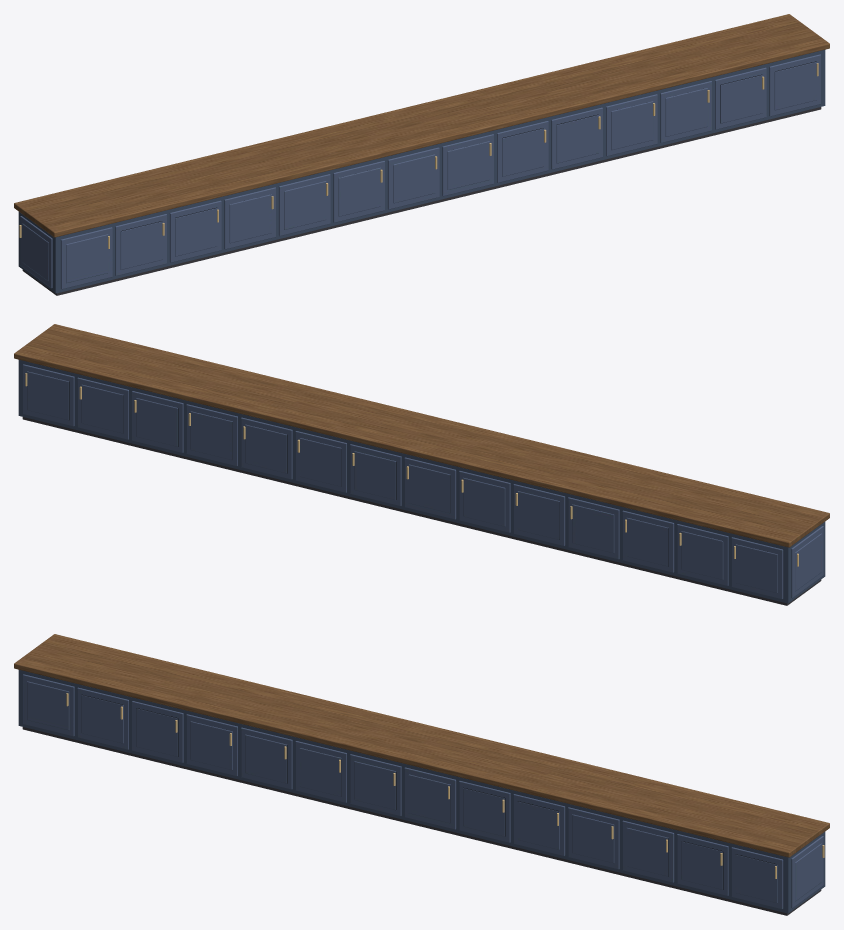
The model's file is back_counter.glb.
The picture shows the model from 3 angles, top to bottom: view 1: azimuth 30°, elevation 25°; view 2: azimuth 150°, elevation 25°; view 3: azimuth 330°, elevation 25°; orthographic projection.
Visible parts, largest first — view 1: back_counter; view 2: back_counter; view 3: back_counter.
Part boxes in pixels (x1,y1,x2,y2): back_counter: [14, 14, 829, 295]; back_counter: [14, 324, 829, 605]; back_counter: [14, 634, 829, 915].
Size of the model in its own units: 122 by 10 by 11.54.
Materials: 1 (1 with a texture image).
